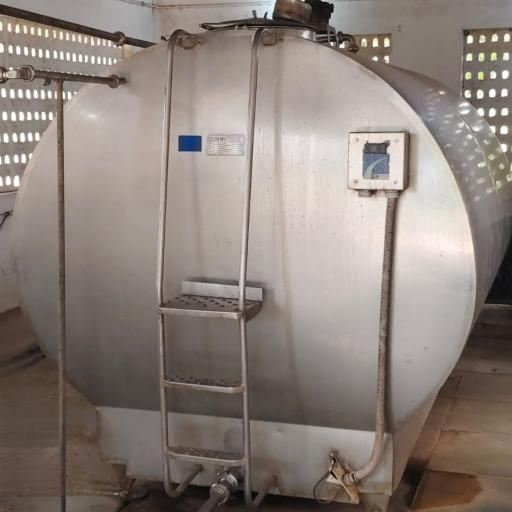silo: (10, 13, 511, 499)
